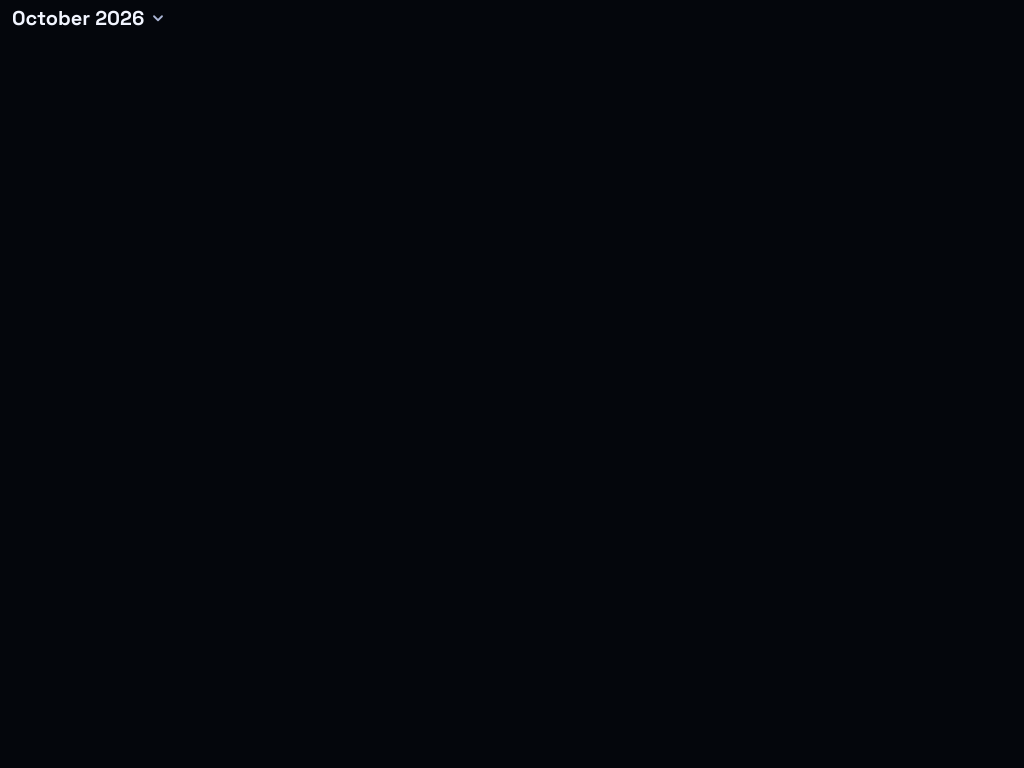
Test: MonthPicker (calendário de um mês) › volta meses com a seta
Click the button with aria-label "October 2026 — choose day". click: click(88, 18)
box: [0, 0, 176, 36]
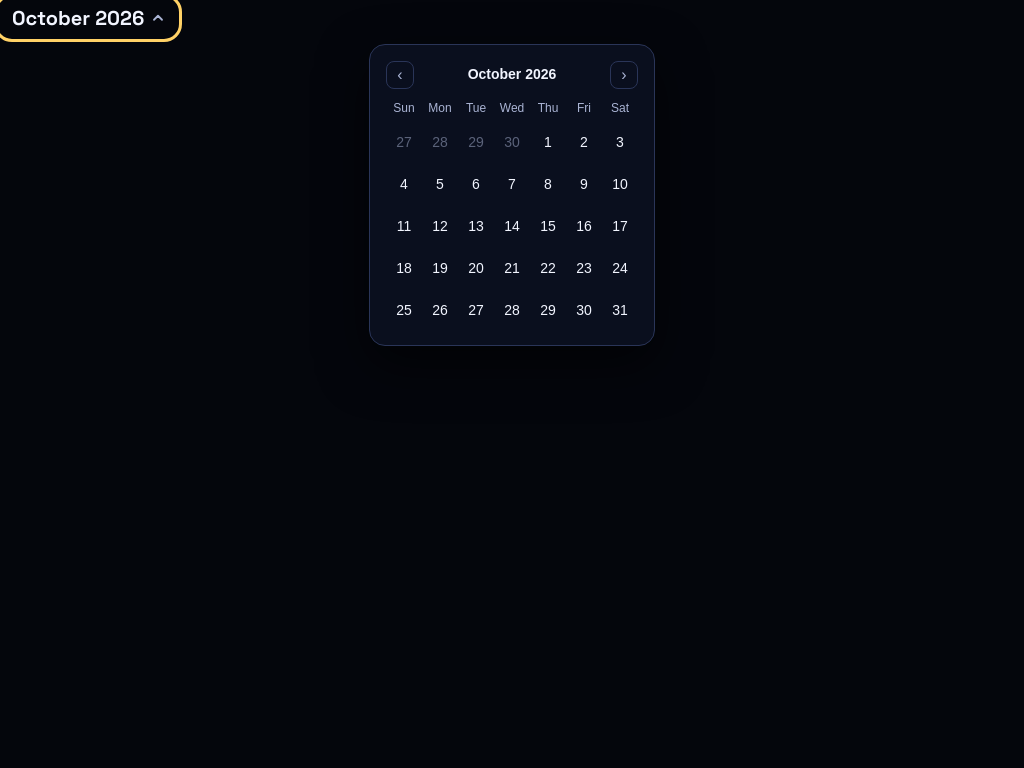
Click the button named "Previous month". click: click(400, 75)
box: [386, 61, 414, 89]
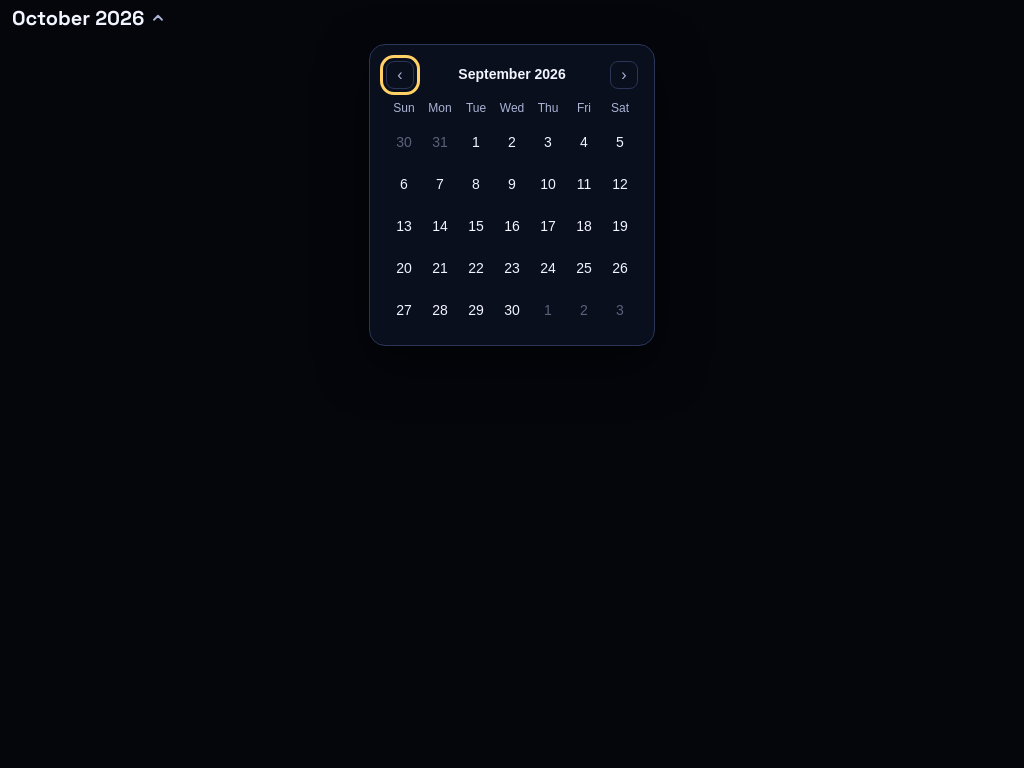
Expected: the button "September 2026" is shown, [450, 61, 574, 87]
